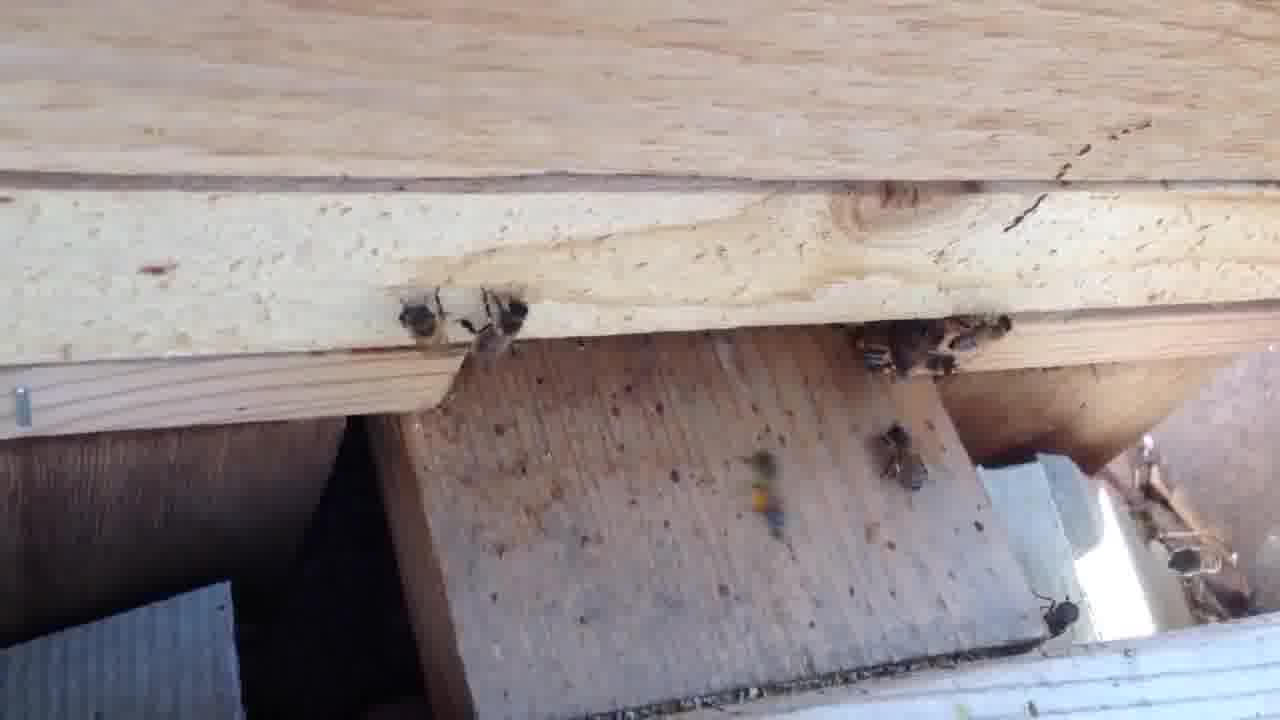pollen: (743, 439, 810, 545)
